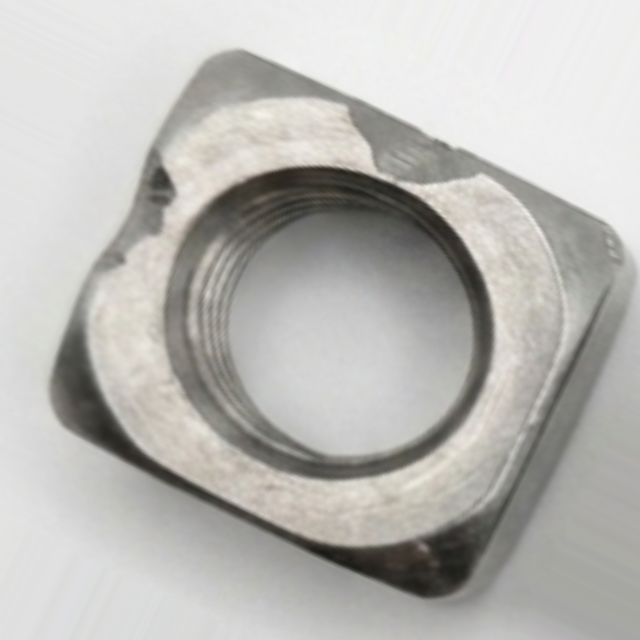defect: (334, 92, 497, 193), (81, 141, 182, 282), (597, 215, 632, 279)
